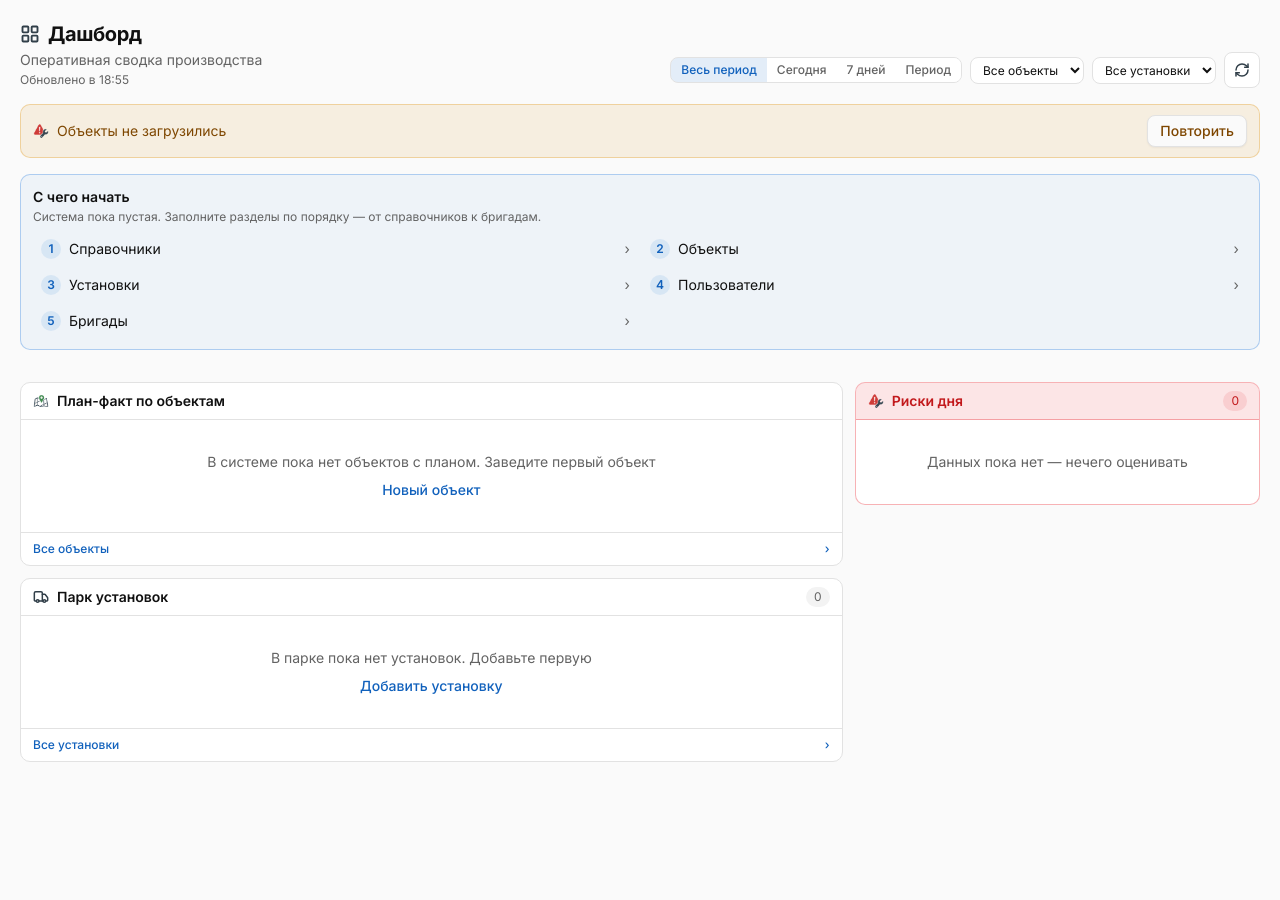
Test case: AdminDashboard: сбой справочника объектов повторяется (F-R109-2) › сбой /api/sites/all → «Объекты не загрузились»; «Повторить» перечитывает список
The width and height of the screenshot is (1280, 900).
Expected: the text "Объекты не загрузились" is shown, [57,122,226,139]
Click the button "Повторить" at (1197, 131), box [1147,115,1247,147]
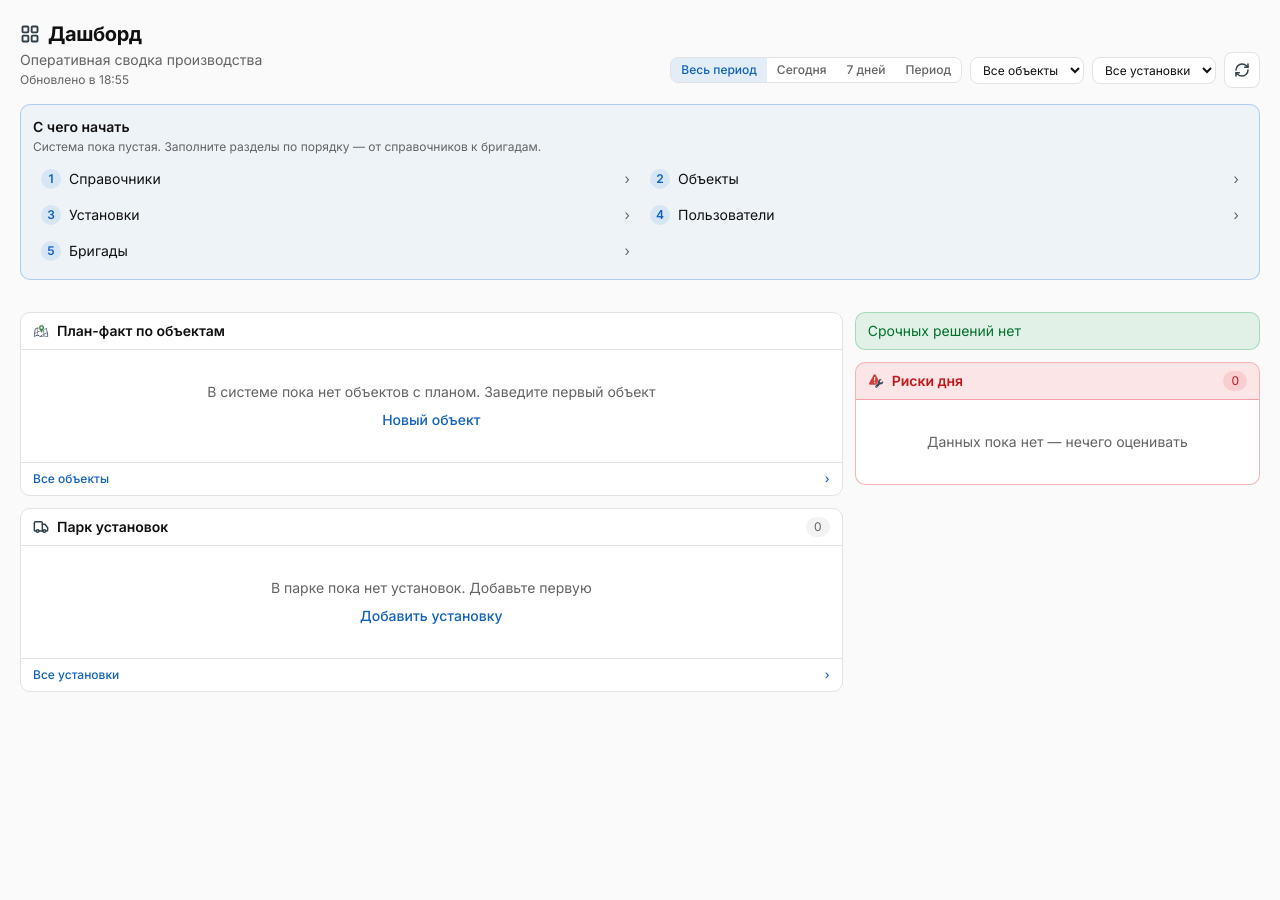
Now the text "Объекты не загрузились" is gone
